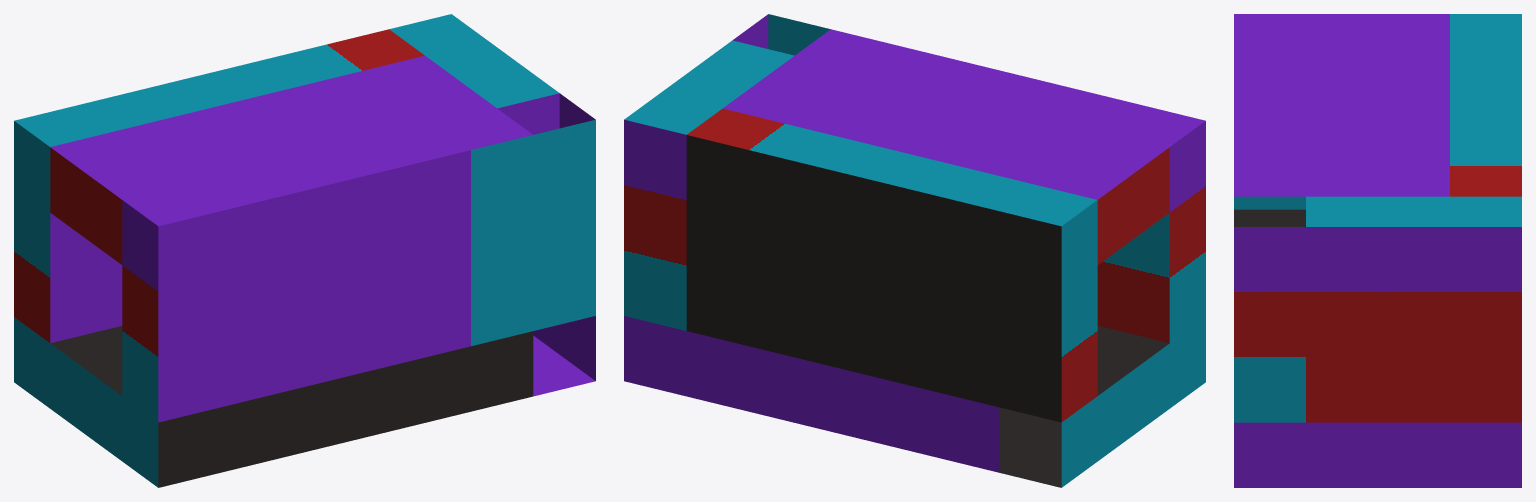
The model's file is Boom.obj.
3 views of the same model, side by side, from view 1: azimuth 30°, elevation 25°; view 2: azimuth 150°, elevation 25°; view 3: azimuth 270°, elevation 25° (orthographic).
Parts seen in each view (by area): view 1: Boom; view 2: Boom; view 3: Boom.
Part boxes in pixels (x1=…): Boom: x1=14, y1=14, x2=595, y2=487; Boom: x1=624, y1=14, x2=1205, y2=487; Boom: x1=1234, y1=14, x2=1521, y2=487.
Bounding box in the file's own units: 0.4375 × 0.25 × 0.25.
